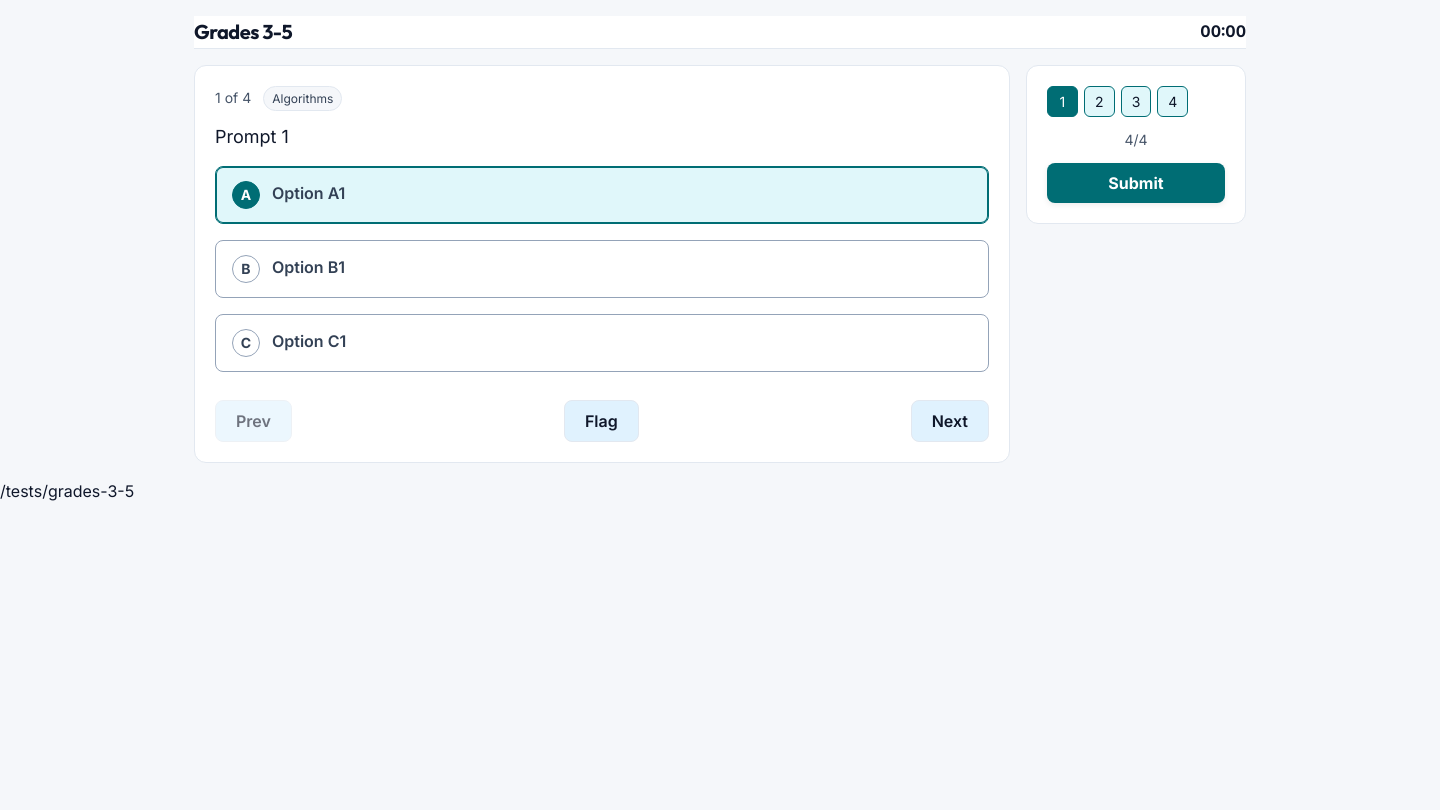
Test case: TakeTest › submit › says all answered when nothing is missing
Expected: the text "Prompt 1" is shown, [215,126,289,147]
Click the button "Submit". click: (1136, 183)
box: [1047,163,1225,203]
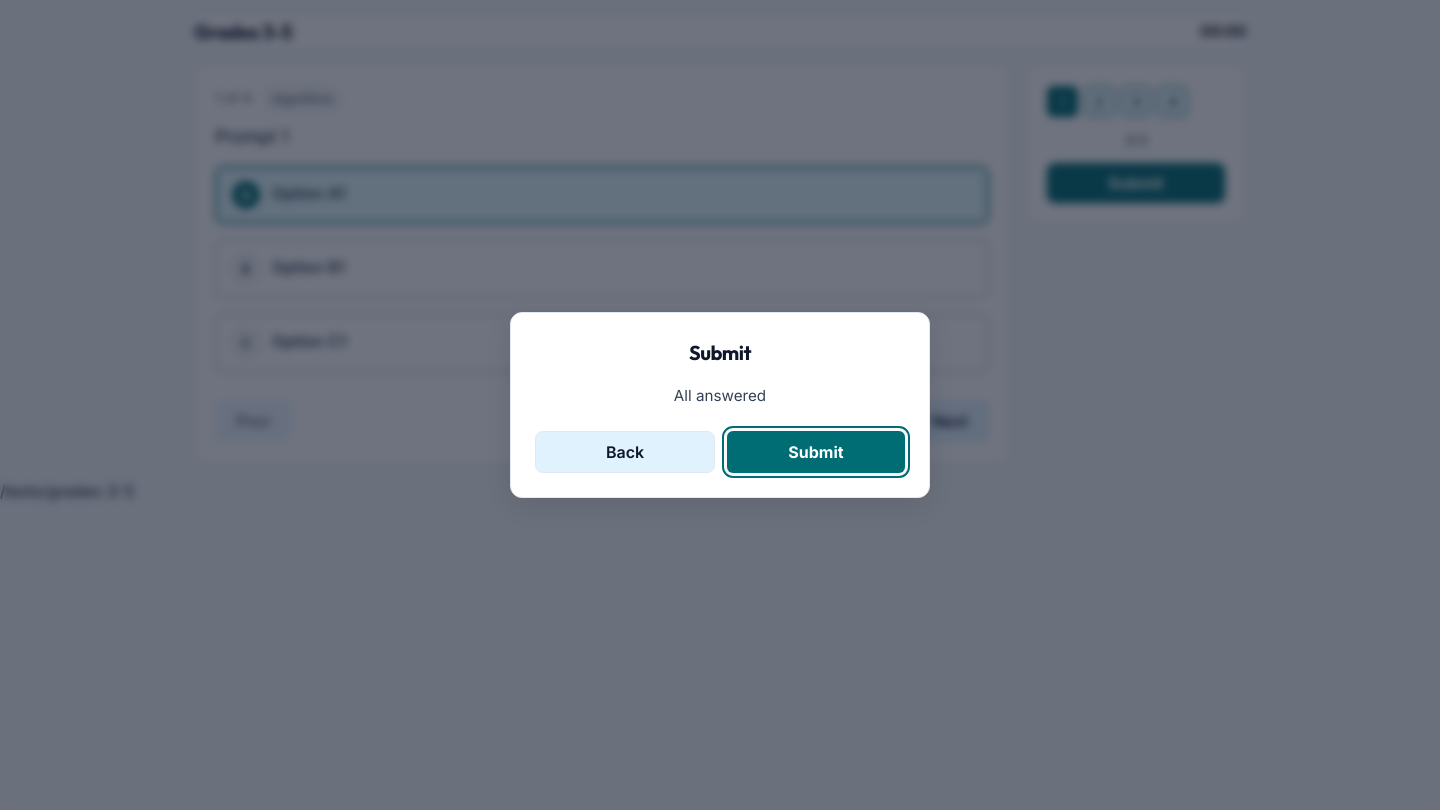
Expected: the dialog shows "All answered", [674,386,766,405]
